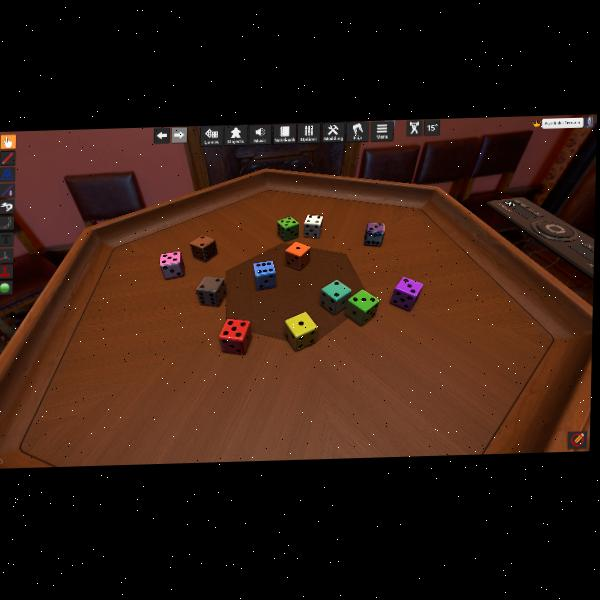d6: (219, 318, 253, 356), (283, 311, 314, 351), (347, 290, 379, 327), (391, 276, 422, 312), (320, 279, 349, 315), (196, 275, 225, 306), (189, 234, 216, 263), (253, 260, 279, 290), (160, 250, 186, 279), (284, 241, 308, 271), (277, 216, 299, 241), (363, 221, 384, 247), (302, 214, 322, 239)
